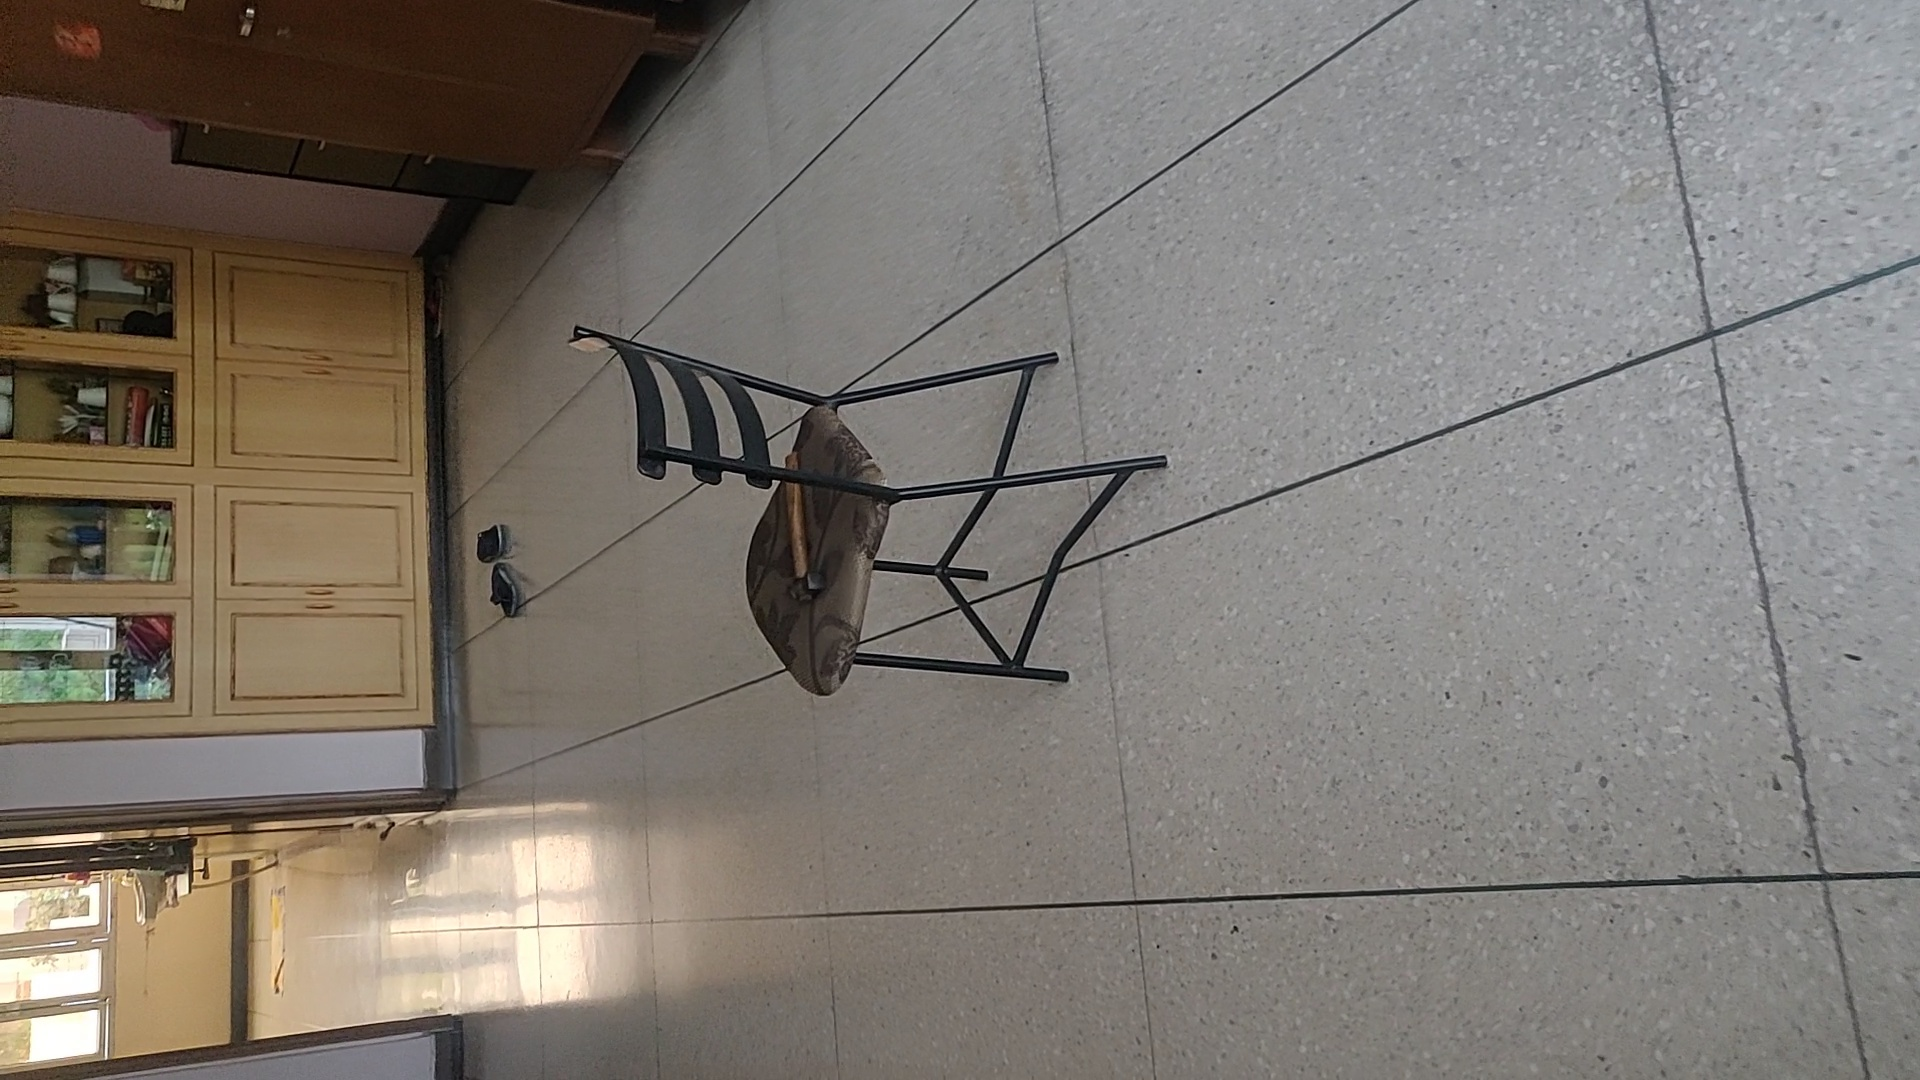hammer: (781, 455, 827, 605)
